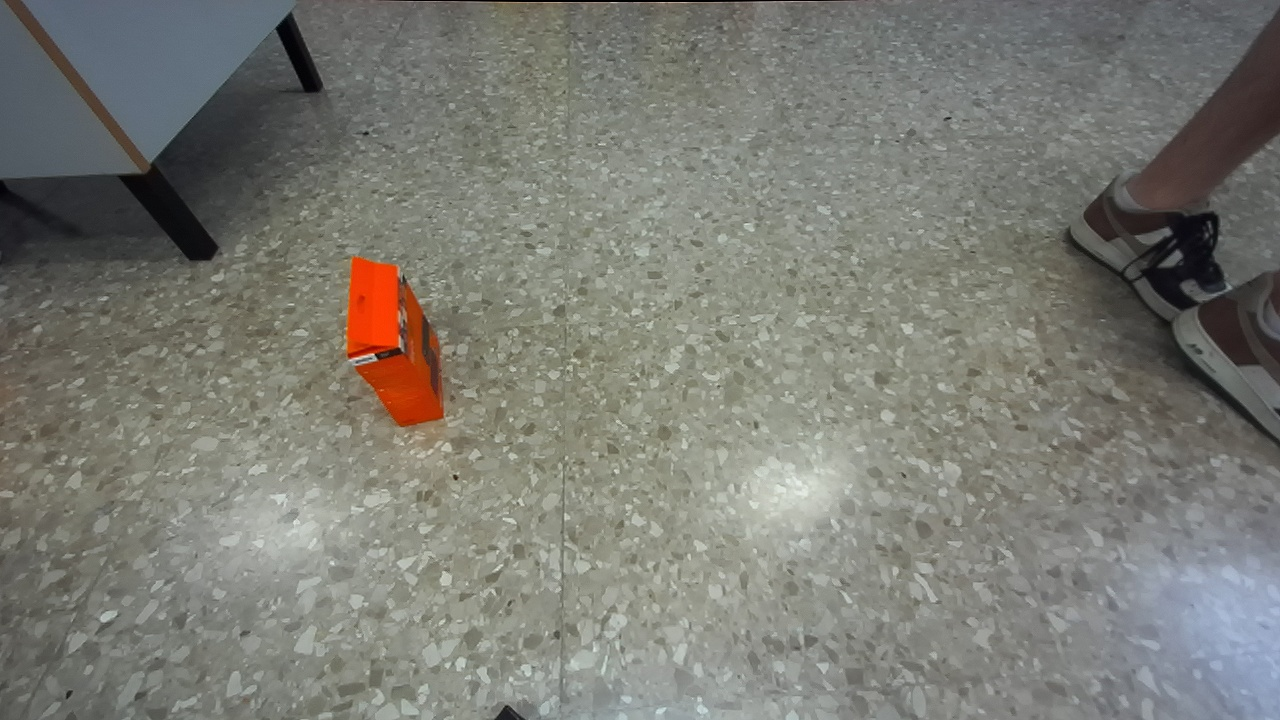caja_manguera: (347, 257, 442, 425)
